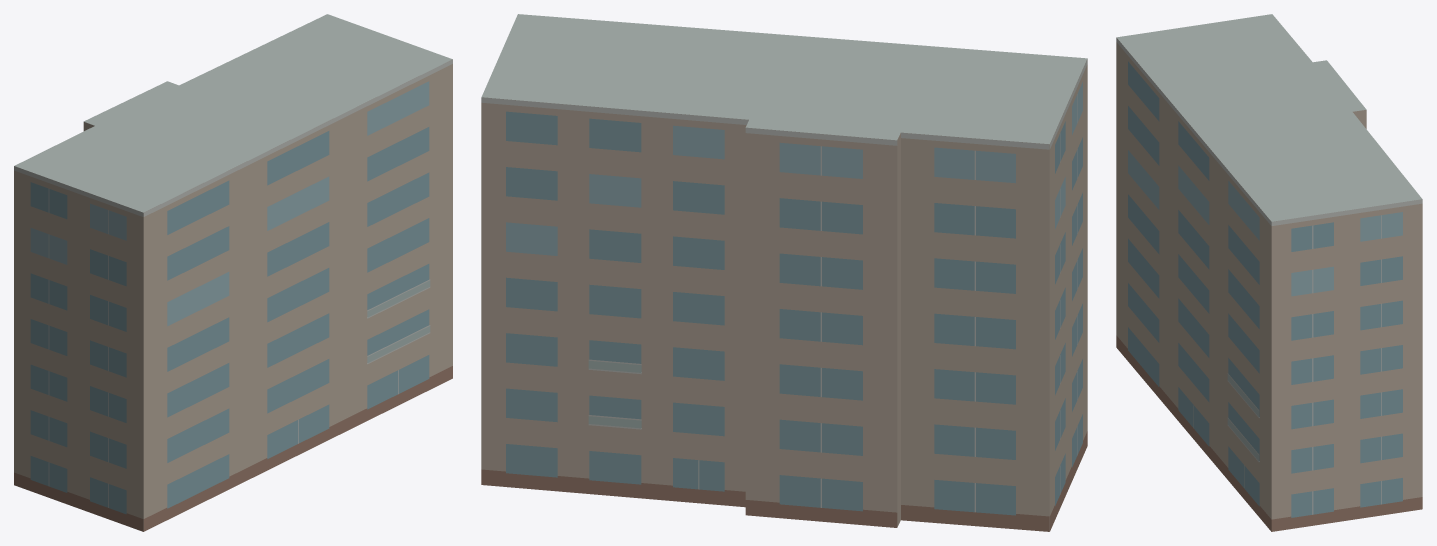
File: survey-upis-32743618.glb
3 renders of one model, left to right at view 1: azimuth 30°, elevation 25°; view 2: azimuth 150°, elevation 25°; view 3: azimuth 270°, elevation 25°, orthographic. The views are drawn at different scales.
Visible parts, largest first — view 1: survey-upis-32743618.tmp; view 2: survey-upis-32743618.tmp; view 3: survey-upis-32743618.tmp.
Part boxes in pixels (x1,y1,x2,y2): survey-upis-32743618.tmp: (14, 14, 452, 531); survey-upis-32743618.tmp: (481, 14, 1087, 531); survey-upis-32743618.tmp: (1116, 14, 1422, 531).
Size of the model in its own units: 24.73 by 17.2 by 15.4.
